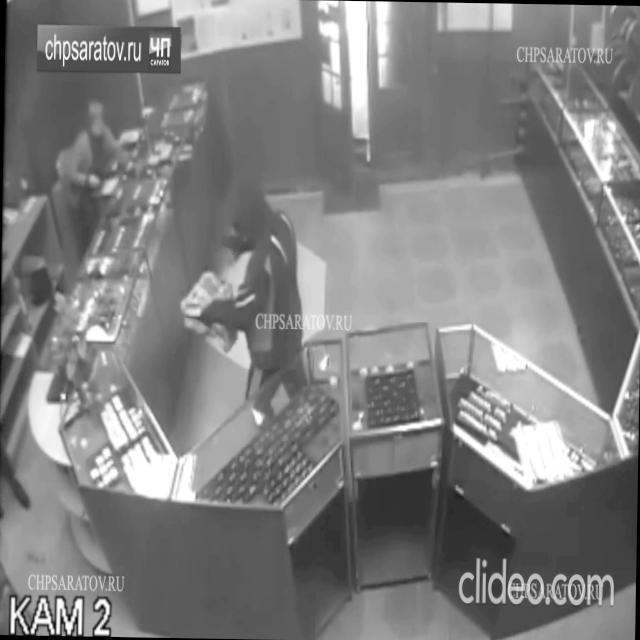gun: (221, 233, 239, 251)
person: (62, 97, 132, 230)
person with a gun: (198, 172, 314, 428)
